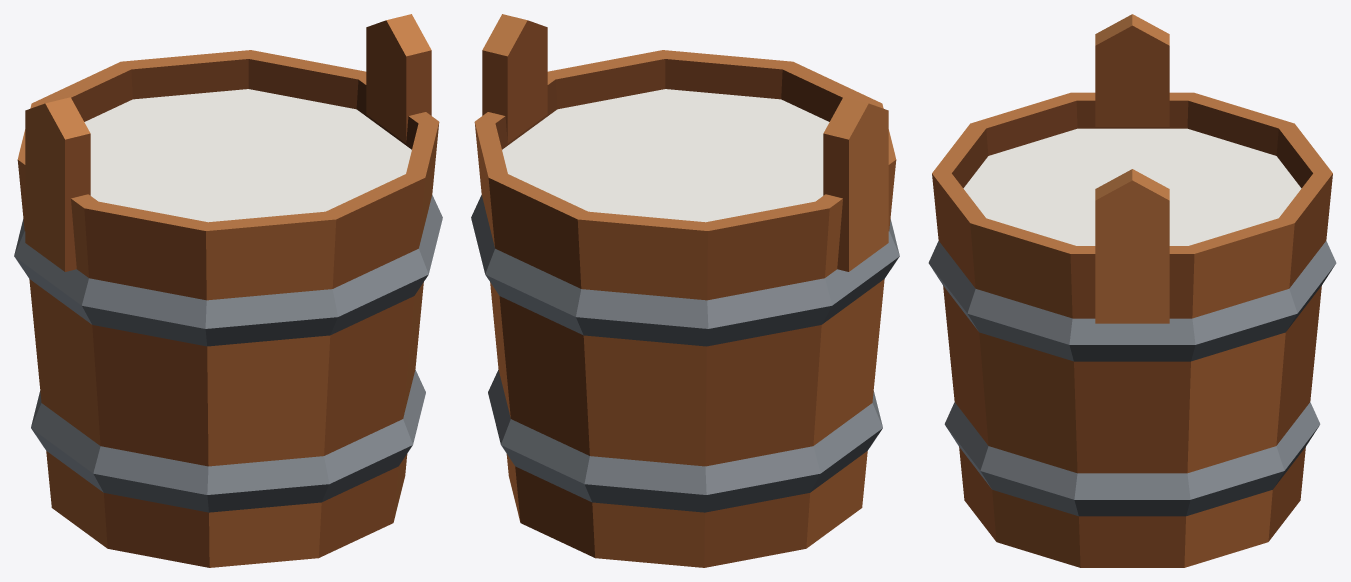
Rendered from FMS_Food_Milk_Bucket.fbx.
The picture shows the model from 3 angles, left to right: view 1: azimuth 30°, elevation 25°; view 2: azimuth 150°, elevation 25°; view 3: azimuth 270°, elevation 25°; orthographic projection. The views are drawn at different scales.
Parts seen in each view (by area): view 1: item_food_milk_bucket; view 2: item_food_milk_bucket; view 3: item_food_milk_bucket.
Part boxes in pixels (x1,y1,x2,y2): item_food_milk_bucket: (14,14,442,567); item_food_milk_bucket: (471,14,899,567); item_food_milk_bucket: (928,14,1336,567).
Bounding box in the file's own units: 0.1593 × 0.18 × 0.1651.
1 material, 1 textured.
